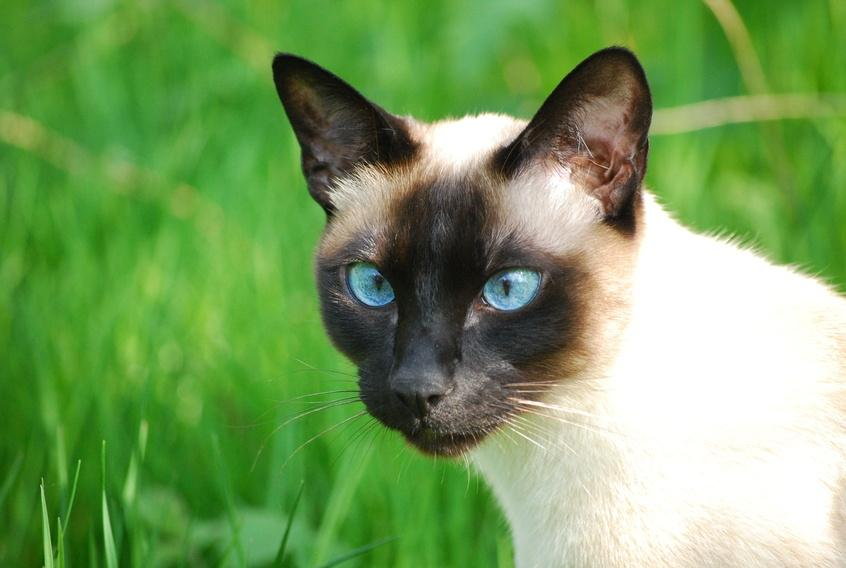siamese: (267, 39, 664, 477)
